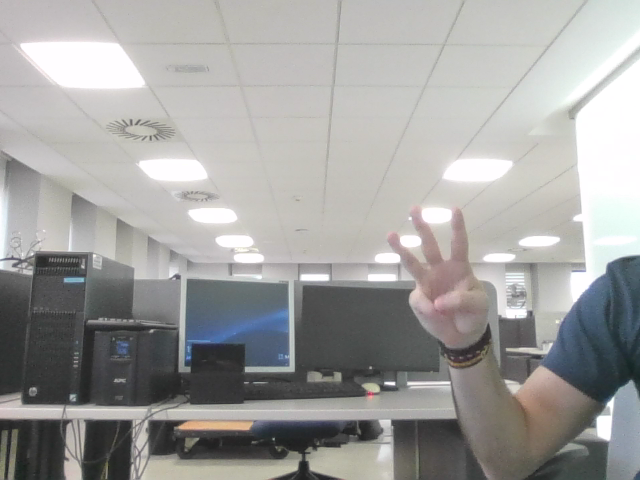3Dedos: (395, 218, 478, 316)
